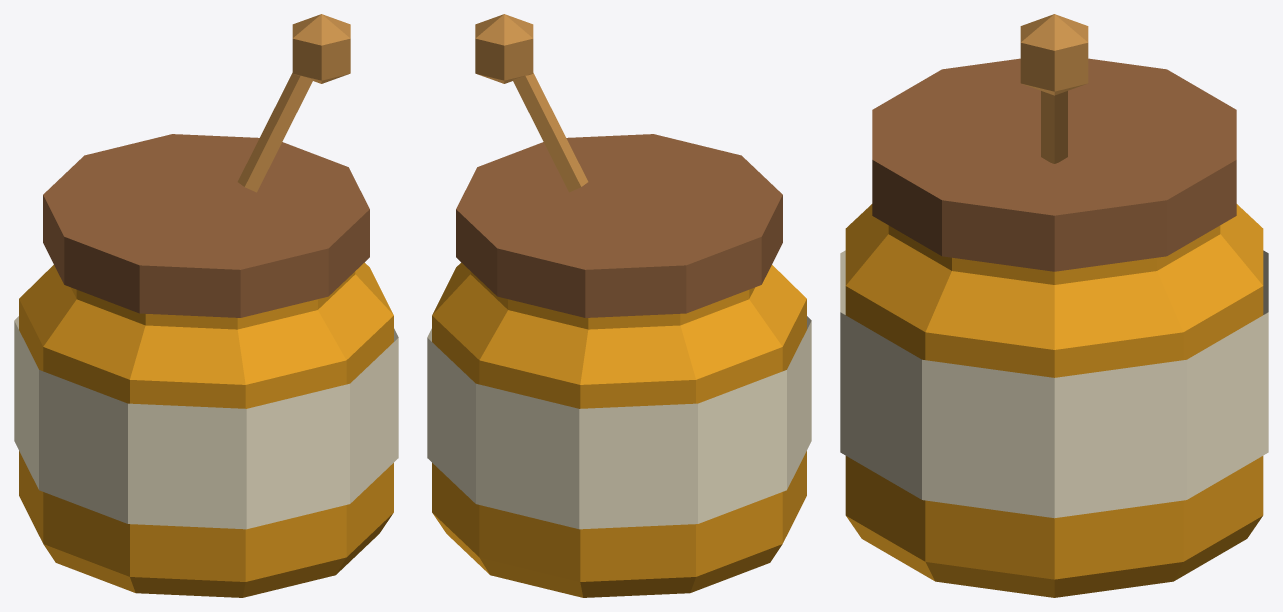
The model's file is Food_Honey.obj.
3 renders of one model, left to right at view 1: azimuth 30°, elevation 25°; view 2: azimuth 150°, elevation 25°; view 3: azimuth 270°, elevation 25°, orthographic. The views are drawn at different scales.
Bounding box in the file's own units: 1.6 × 2.21 × 1.52.
